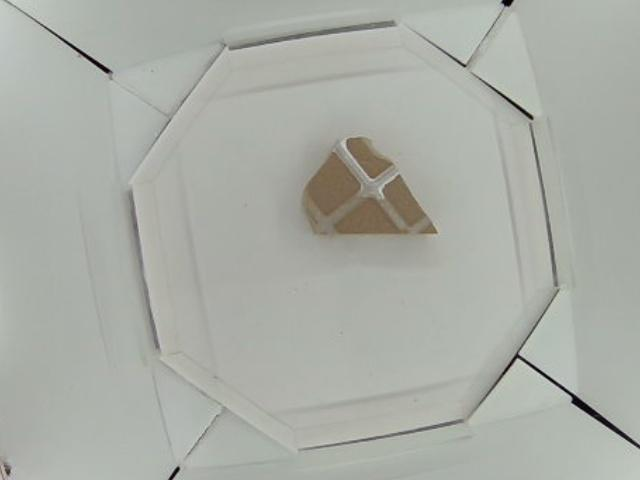China: (302, 137, 438, 237)
